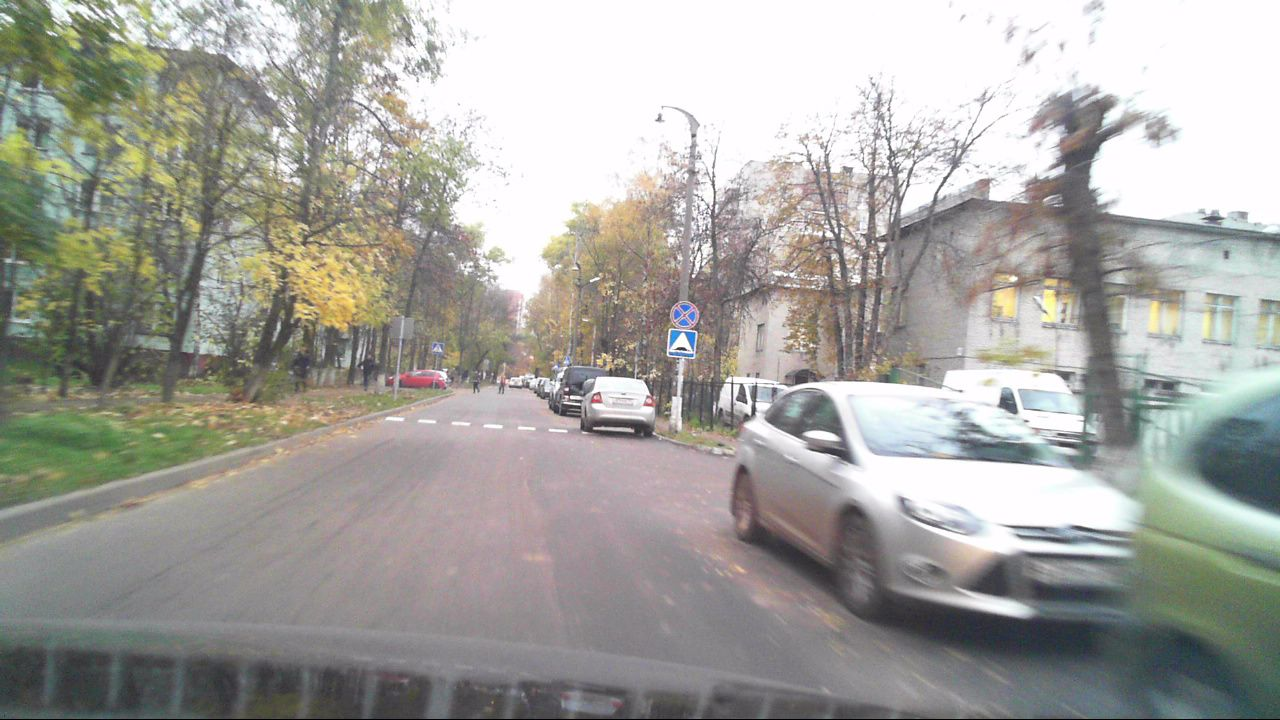No Parking: (670, 300, 699, 329)
